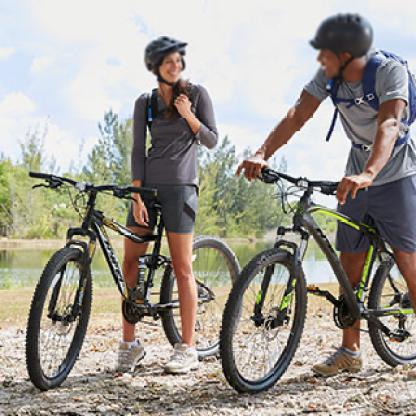Helmet: (302, 9, 383, 84), (139, 31, 197, 94)
